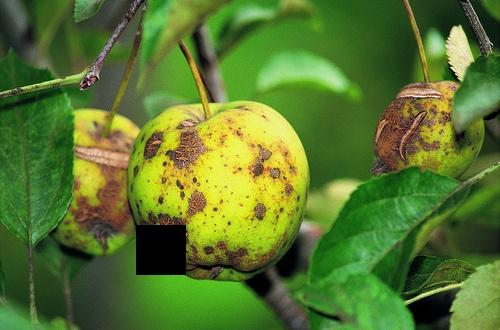rotten apple: (129, 100, 317, 285), (33, 103, 141, 260), (368, 80, 494, 188)
